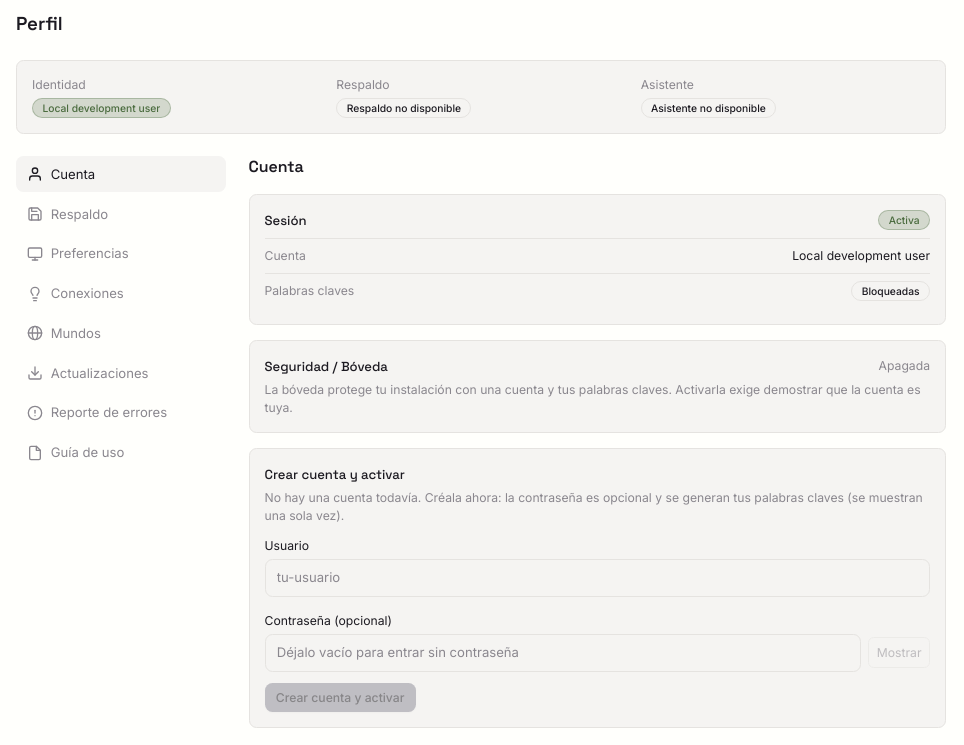
Test: ProfilePage — Actualizaciones section › is selectable from another section
Expected: the heading "Sesión" is shown, 264,210 -> 306,231
Click the tab "Actualizaciones" at point(121, 373), box 16,355 -> 226,391
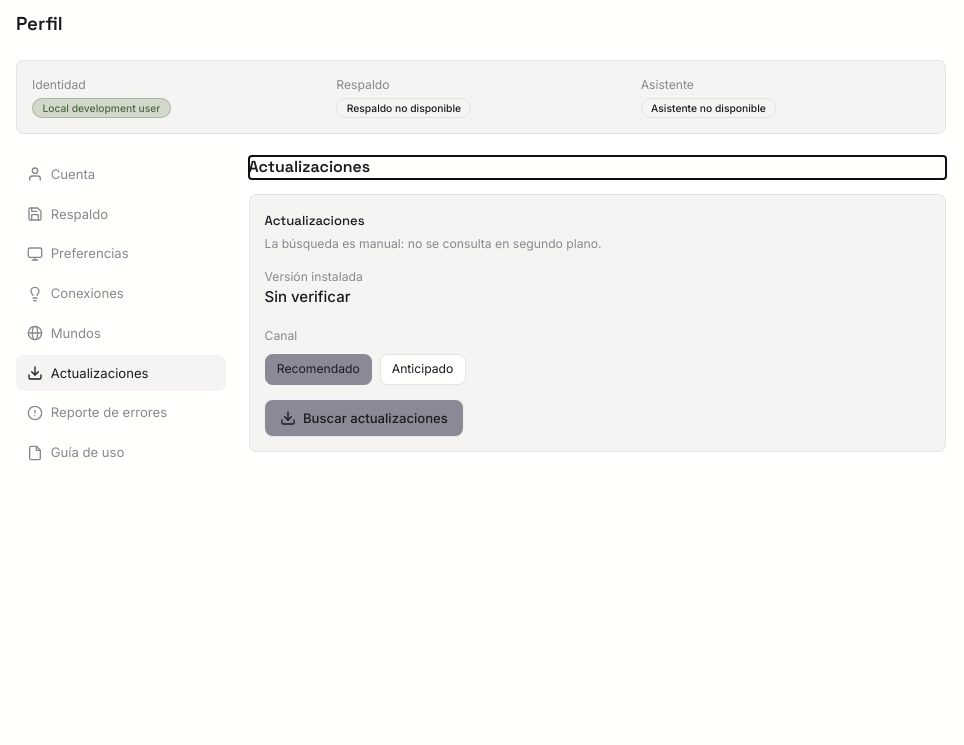
Expected: the button "Buscar actualizaciones" is shown, 264,400 -> 463,436
